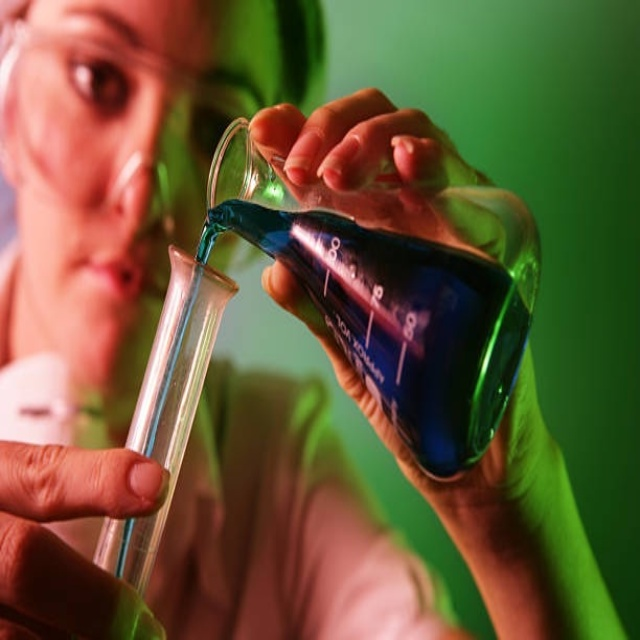Gafas: (1, 12, 264, 233)
Sin_guantes: (247, 86, 559, 507), (0, 431, 171, 640)
Sin_mascara: (60, 238, 158, 367)
